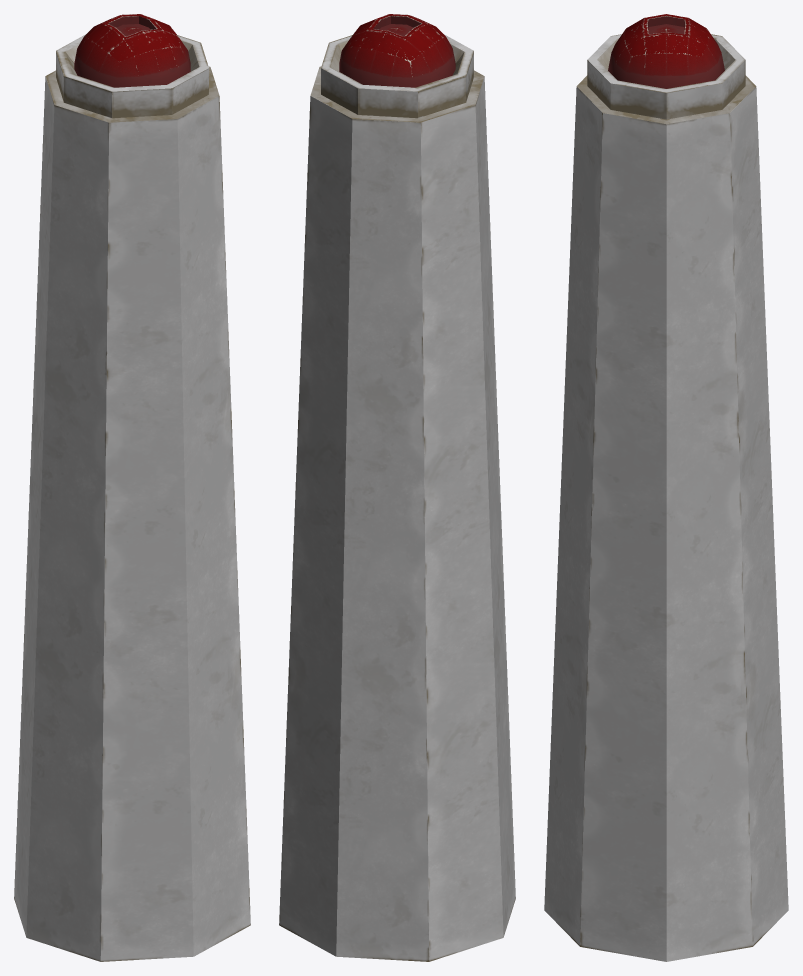
Rendered from PillarButton.gltf.
3 renders of one model, left to right at view 1: azimuth 30°, elevation 25°; view 2: azimuth 150°, elevation 25°; view 3: azimuth 270°, elevation 25°, orthographic.
Parts seen in each view (by area): view 1: Base, Button; view 2: Base, Button; view 3: Base, Button.
Part boxes in pixels (<box>): Base: <box>14,34,250,961</box>; Button: <box>74,14,190,87</box>; Base: <box>279,34,515,961</box>; Button: <box>339,14,455,87</box>; Base: <box>544,34,788,961</box>; Button: <box>608,14,724,88</box>.
Bounding box in the file's own units: 0.6963 × 2.79 × 0.6963.
2 materials, 2 textured.
